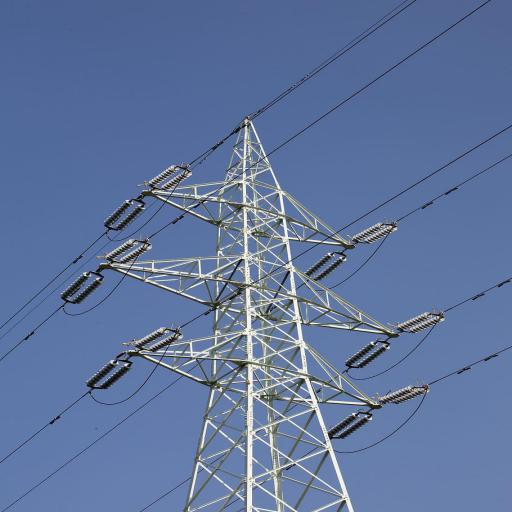ss_3: (102, 115, 413, 512)
